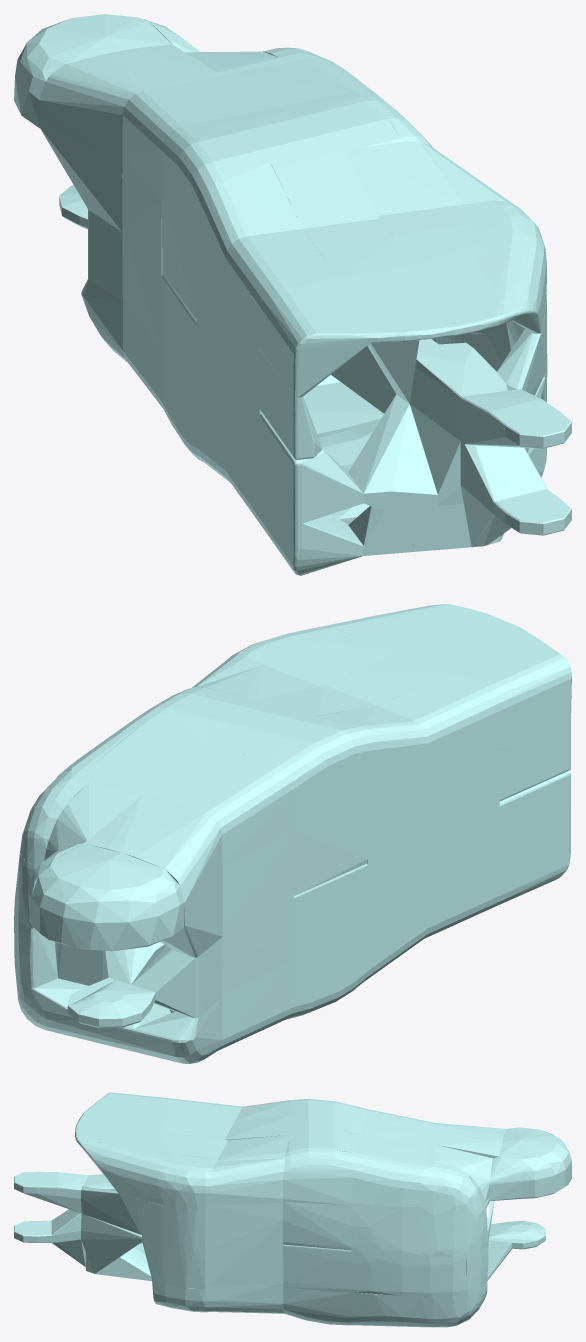
The model's file is L_CROTCH_P_LINK_mesh.dae.
The picture shows the model from 3 angles, top to bottom: view 1: azimuth 30°, elevation 25°; view 2: azimuth 150°, elevation 25°; view 3: azimuth 270°, elevation 25°; orthographic projection. The views are drawn at different scales.
Visible parts, largest first — view 1: L_CROTCH_P_LINK; view 2: L_CROTCH_P_LINK; view 3: L_CROTCH_P_LINK.
Part boxes in pixels (<box>): L_CROTCH_P_LINK: <box>14,14,571,575</box>; L_CROTCH_P_LINK: <box>14,604,571,1063</box>; L_CROTCH_P_LINK: <box>14,1092,571,1327</box>.
Size of the model in its own units: 0.1627 by 0.1401 by 0.4114.
